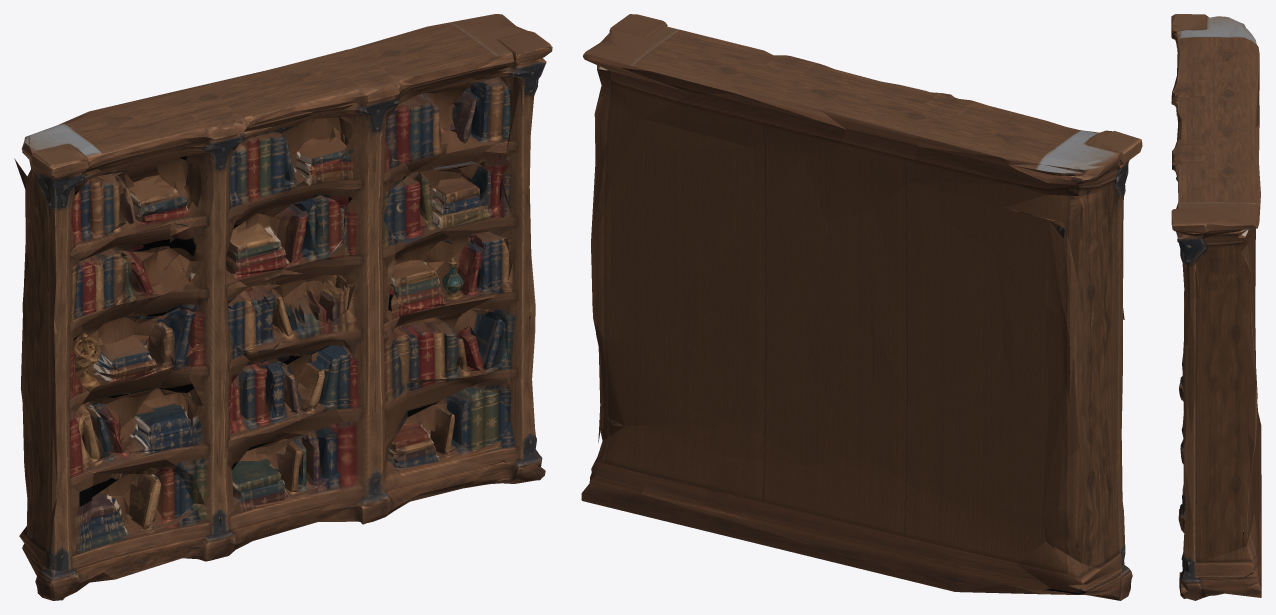
File: large_bookshelf.glb
3 renders of one model, left to right at view 1: azimuth 30°, elevation 25°; view 2: azimuth 150°, elevation 25°; view 3: azimuth 270°, elevation 25°, orthographic. The views are drawn at different scales.
Parts seen in each view (by area): view 1: output_unwrapped; view 2: output_unwrapped; view 3: output_unwrapped.
Boxes of the visible parts, <box> form: output_unwrapped: <box>14,14,552,600</box>; output_unwrapped: <box>581,14,1142,600</box>; output_unwrapped: <box>1171,14,1261,600</box>.
Bounding box in the file's own units: 1.9 × 1.6 × 0.3445.
Materials: 1 (1 with a texture image).
